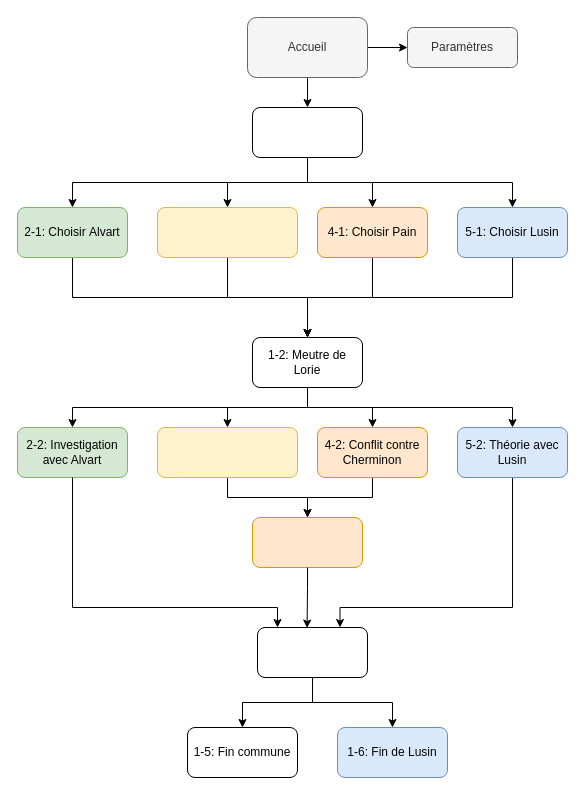
Image size: 585x795. Some labels were removed from this diagram. The shapes that lost their labels are listed below. From the top down, each one's box as (x1, y1, x2, y2) in pixels, then its label:
(252, 106, 362, 158): 1-1: Le Comte
(156, 206, 298, 258): 3-1: Choisir Cherminon
(156, 426, 298, 478): 3-2: Conflit contre Pain
(252, 516, 362, 568): 1-3: Bataille
(256, 626, 368, 678): 1-4: Assaut
